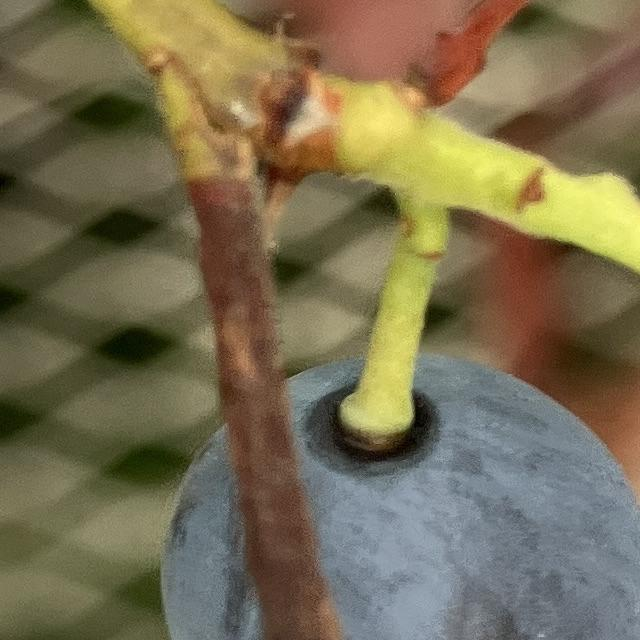Blueberries: (139, 309, 640, 640)
